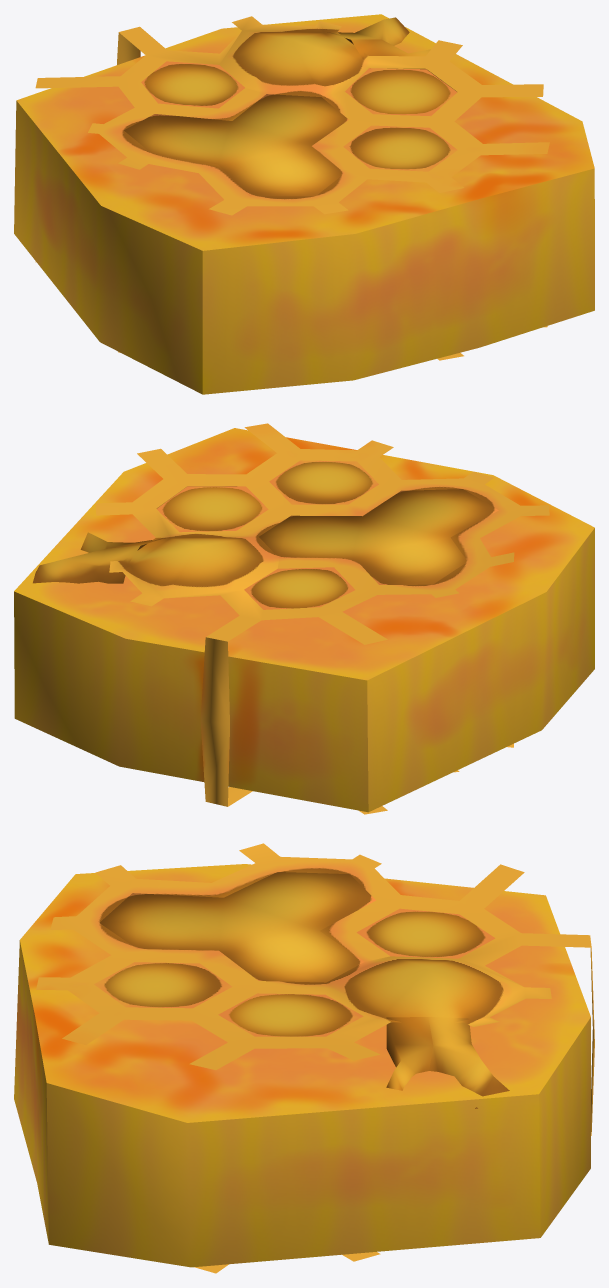
The model's file is obj_harvest_resource_beewax_lod1.fbx.
3 renders of one model, top to bottom at view 1: azimuth 30°, elevation 25°; view 2: azimuth 150°, elevation 25°; view 3: azimuth 270°, elevation 25°, orthographic. The views are drawn at different scales.
Parts seen in each view (by area): view 1: obj_harvest_resource_beewax_lod2; view 2: obj_harvest_resource_beewax_lod2; view 3: obj_harvest_resource_beewax_lod2.
Boxes of the visible parts, x1=… form: obj_harvest_resource_beewax_lod2: x1=14, y1=14, x2=594, y2=394; obj_harvest_resource_beewax_lod2: x1=14, y1=423, x2=594, y2=814; obj_harvest_resource_beewax_lod2: x1=14, y1=843, x2=594, y2=1273.
Bounding box in the file's own units: 2.26 × 0.9443 × 2.22.
Materials: 1 (1 with a texture image).
